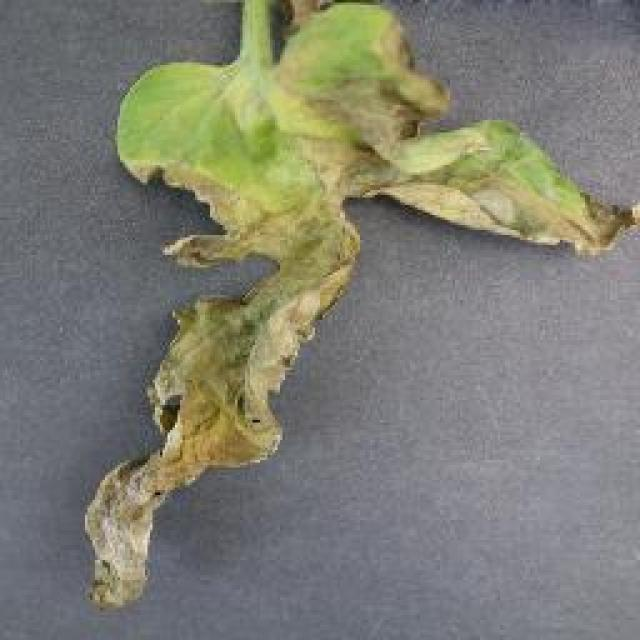Tomato late blight leaf: (81, 4, 631, 606)
